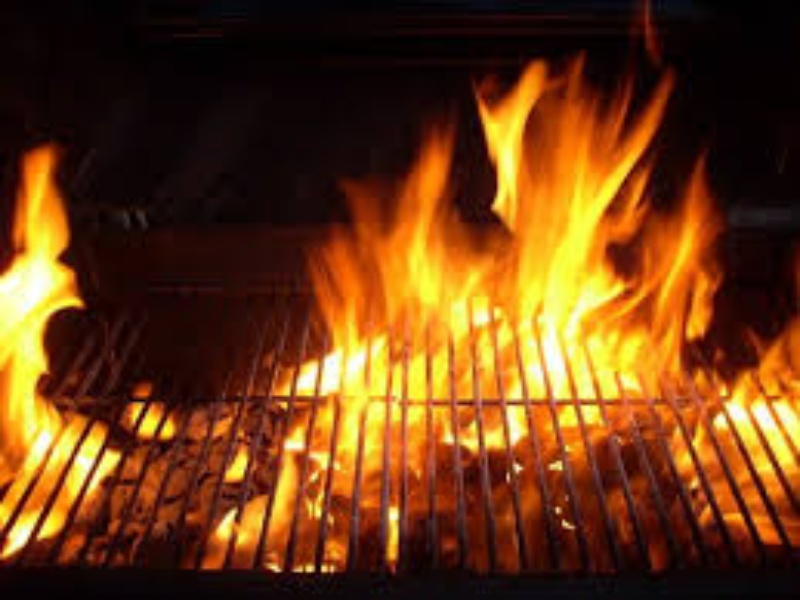fire: (282, 5, 800, 503), (4, 53, 124, 561), (210, 512, 352, 571), (129, 369, 178, 443)
